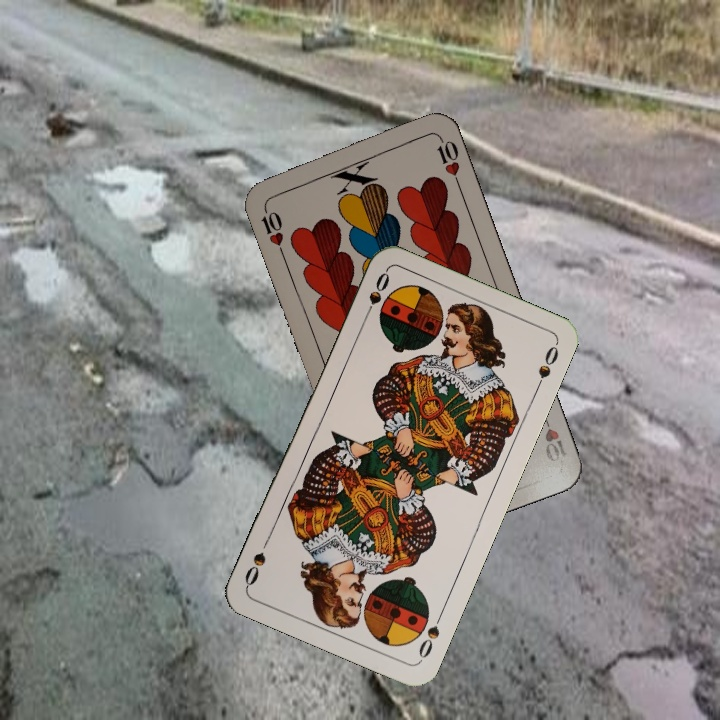H10: (538, 407, 569, 465), (256, 201, 287, 258)
SO: (359, 268, 393, 324), (414, 607, 446, 664)
